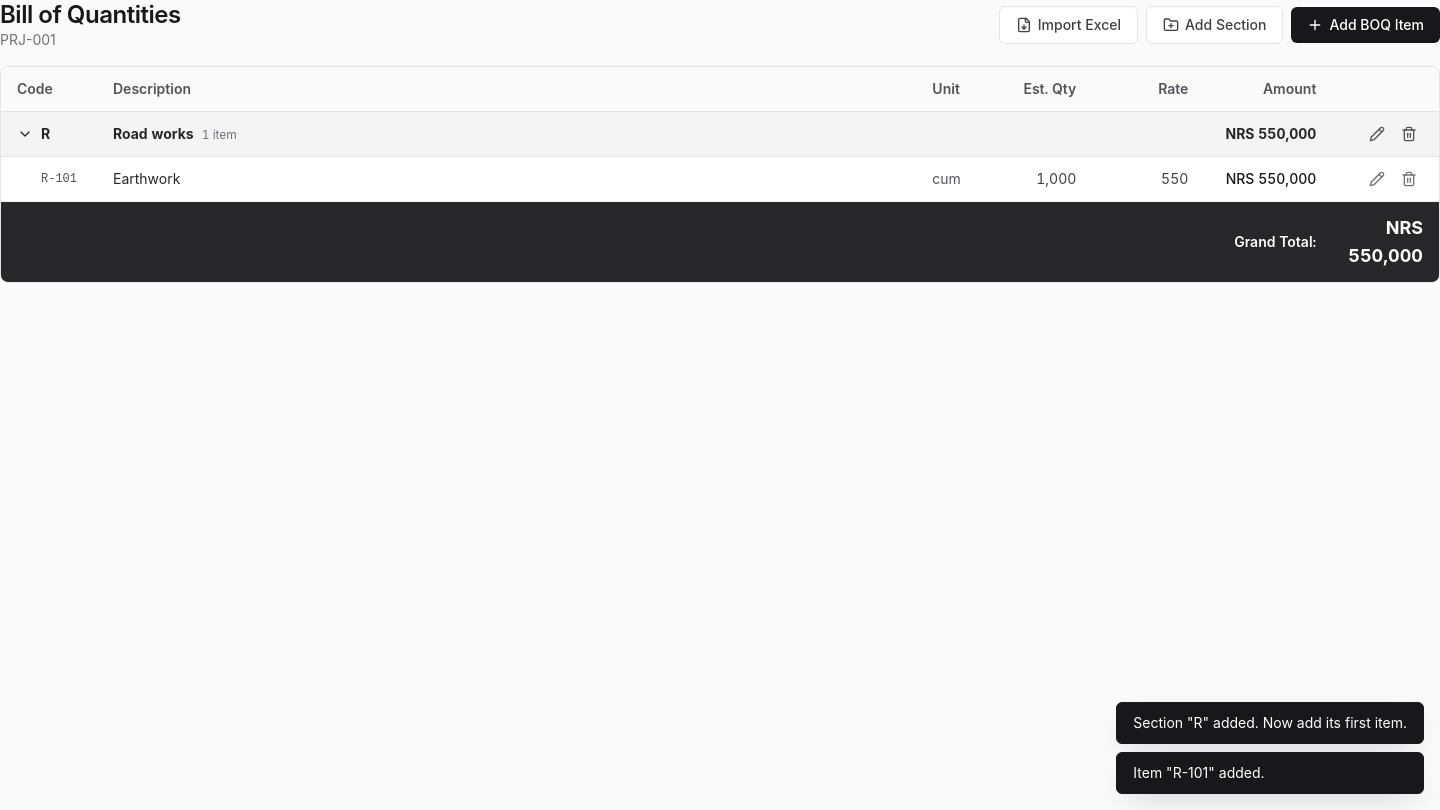
Test case: BOQ page — validation › explains what is missing instead of doing nothing
Click the button with test id "add-item" at (1366, 25), box [1291,7,1439,43]
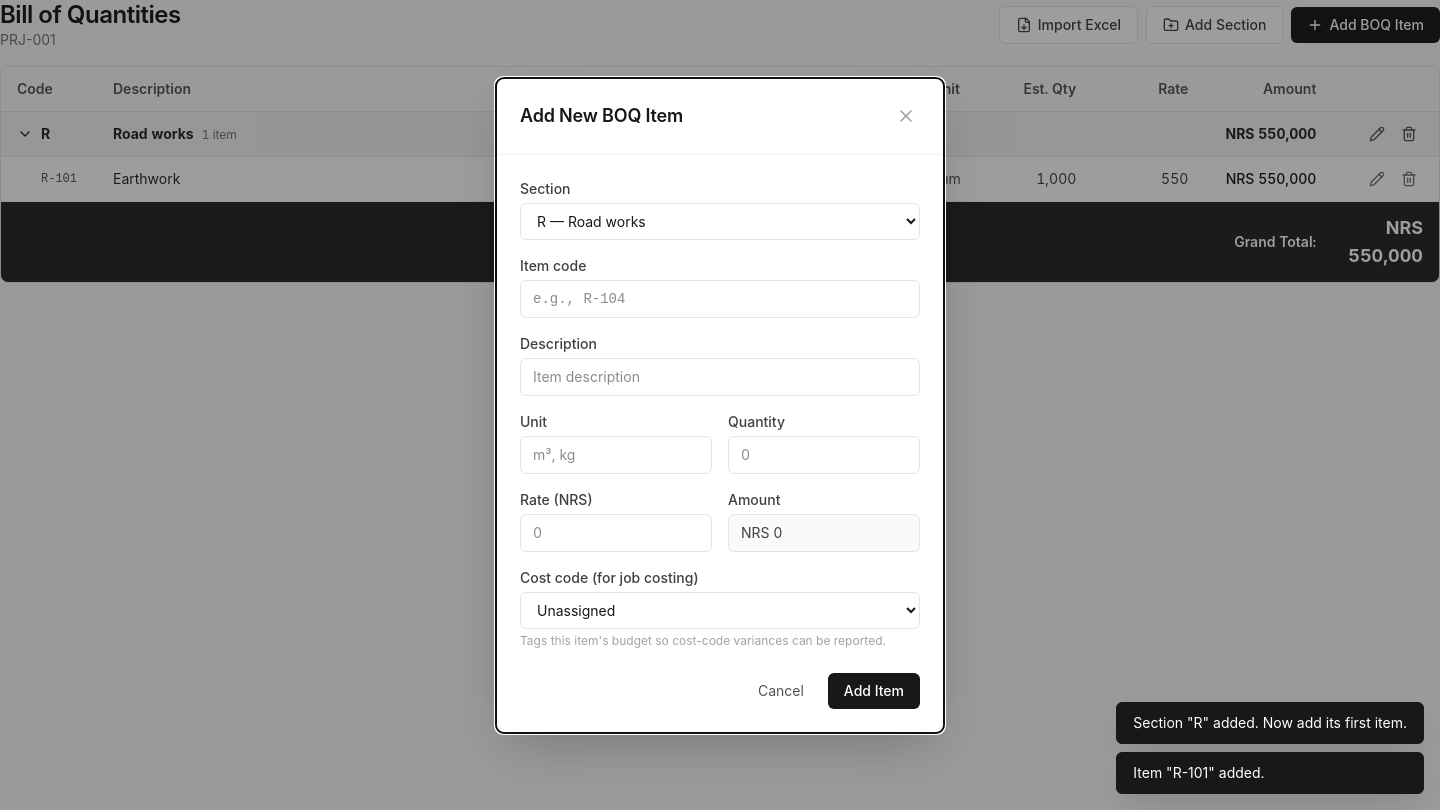
Click the button "Add Item" at (874, 690), box [828,672,920,708]
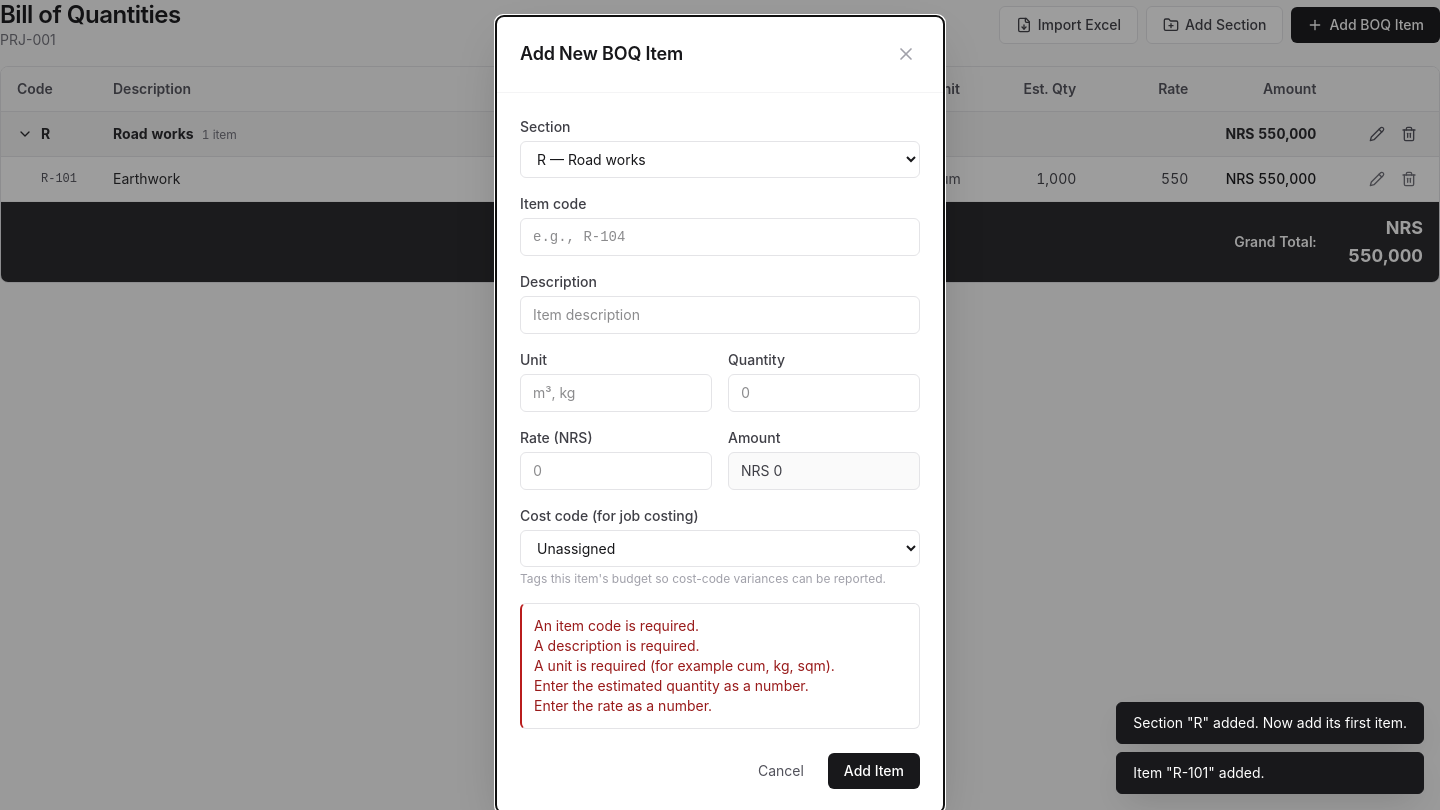
Check: the message with test id "boq-item-errors" shows "An item code is required.", box [534,617,699,634]
Check: the message with test id "boq-item-errors" shows "A description is required.", box [534,637,700,654]
Check: the message with test id "boq-item-errors" shows "A unit is required", box [534,657,835,674]
Type "R-102" into the field labelled "Item code" at (720, 237), box [520,218,920,256]
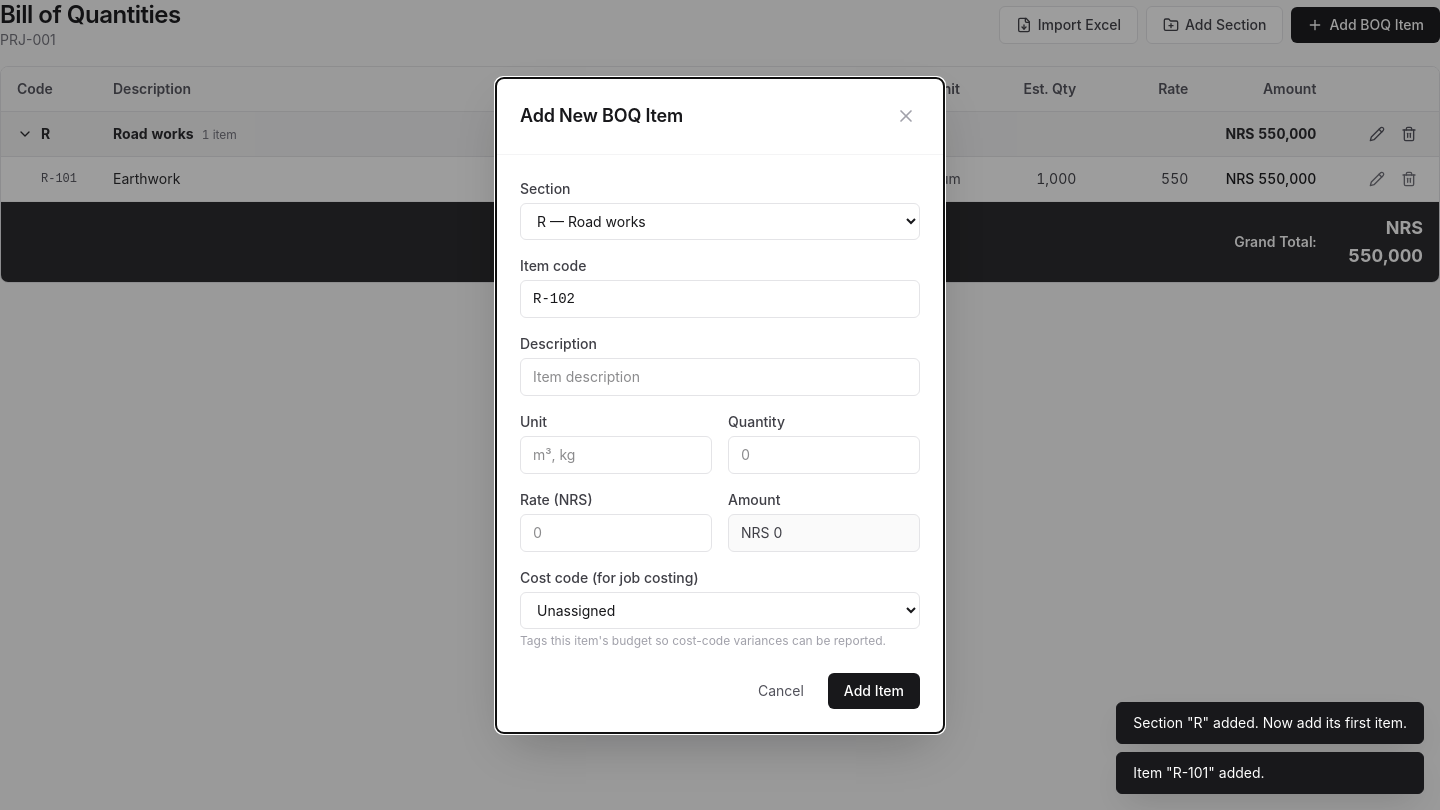
Check: the message with test id "boq-item-errors" is gone
Check: the text "An item code is required." is gone
